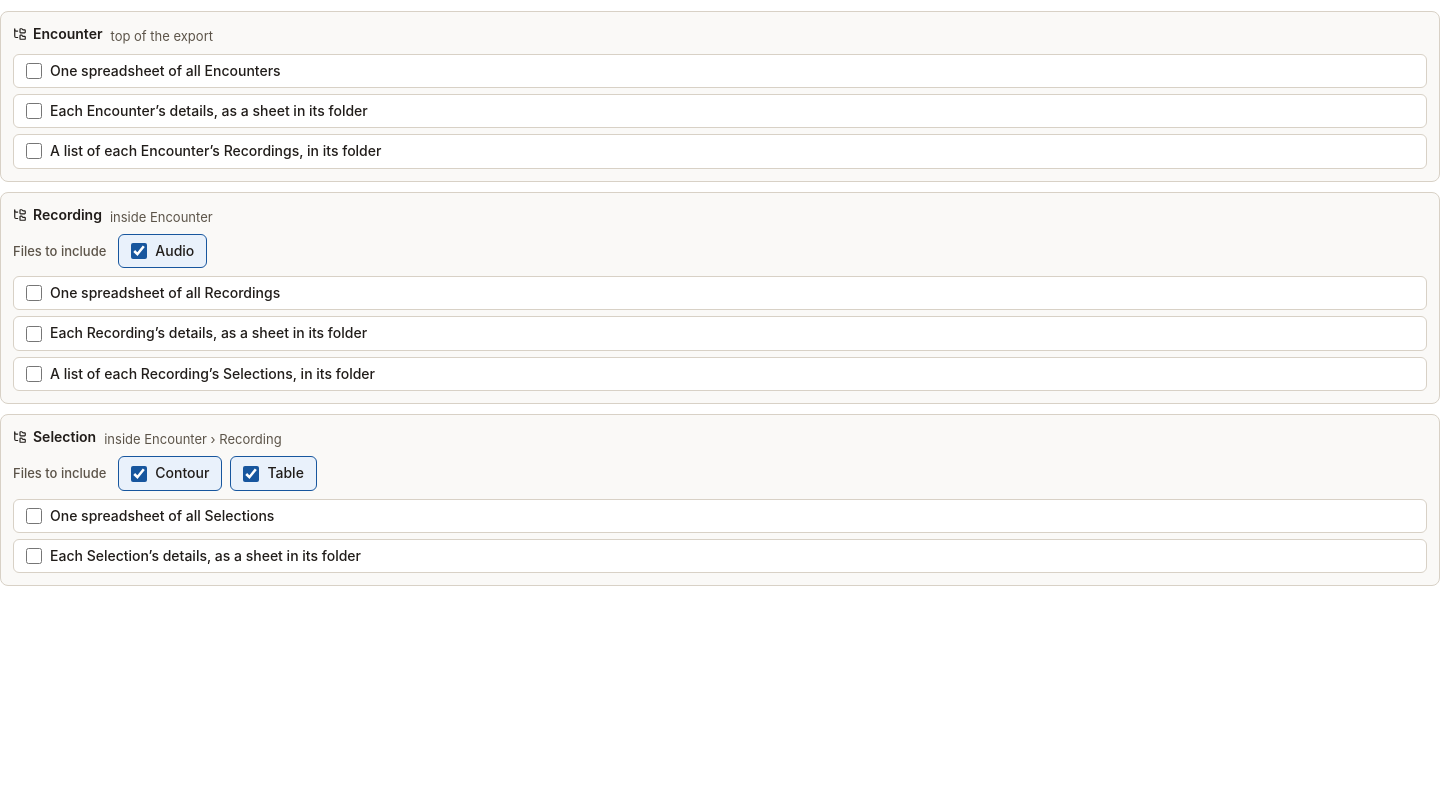
choosing columns, on the table’s own row › shows every column to begin with, and opens a panel to choose from
This screenshot has width=1440, height=793.
Click the checkbox labelled "One spreadsheet of all Selections". click: (34, 516)
box: [26,508,42,524]
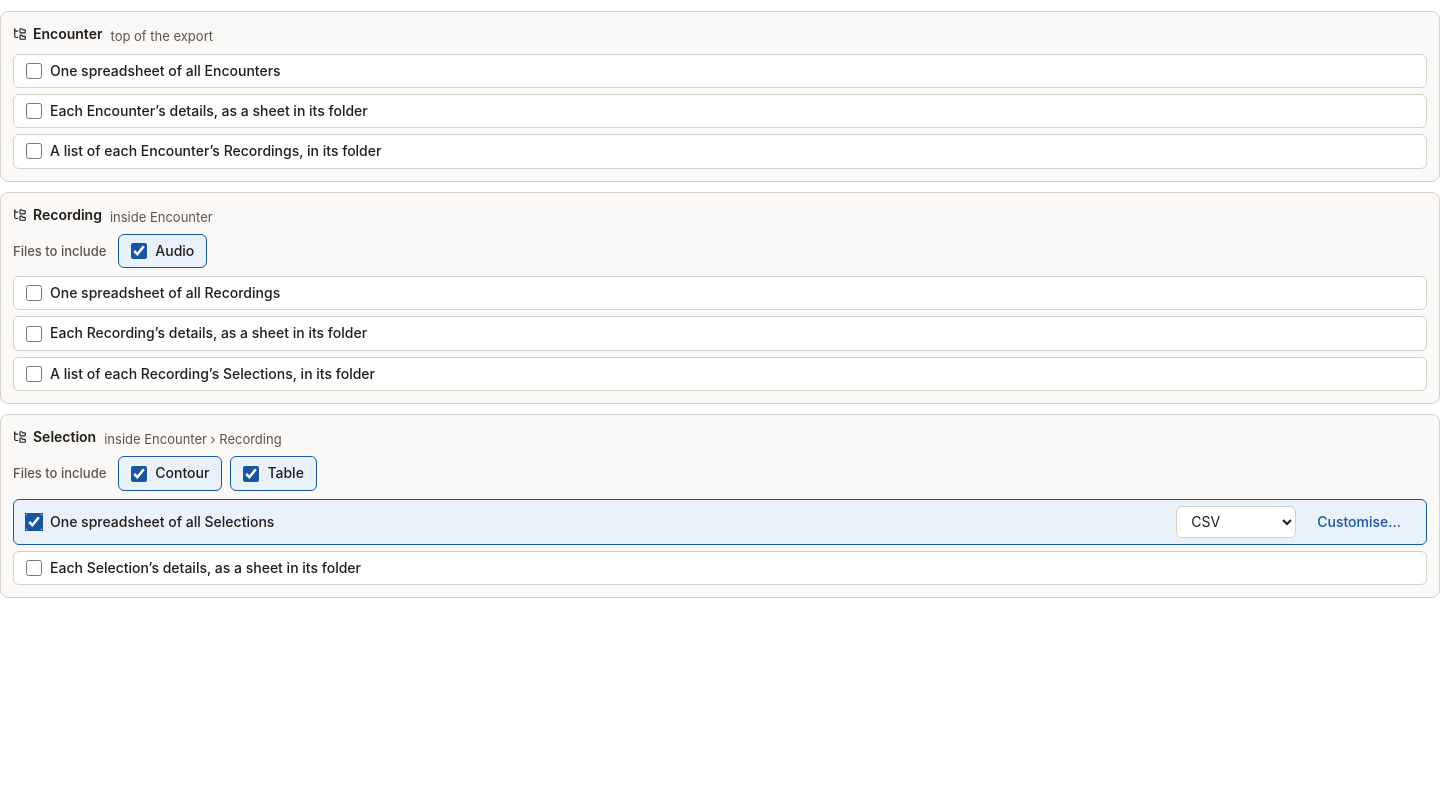
Click the button "Customise…". click: (1359, 522)
box: [1304,506,1414,538]
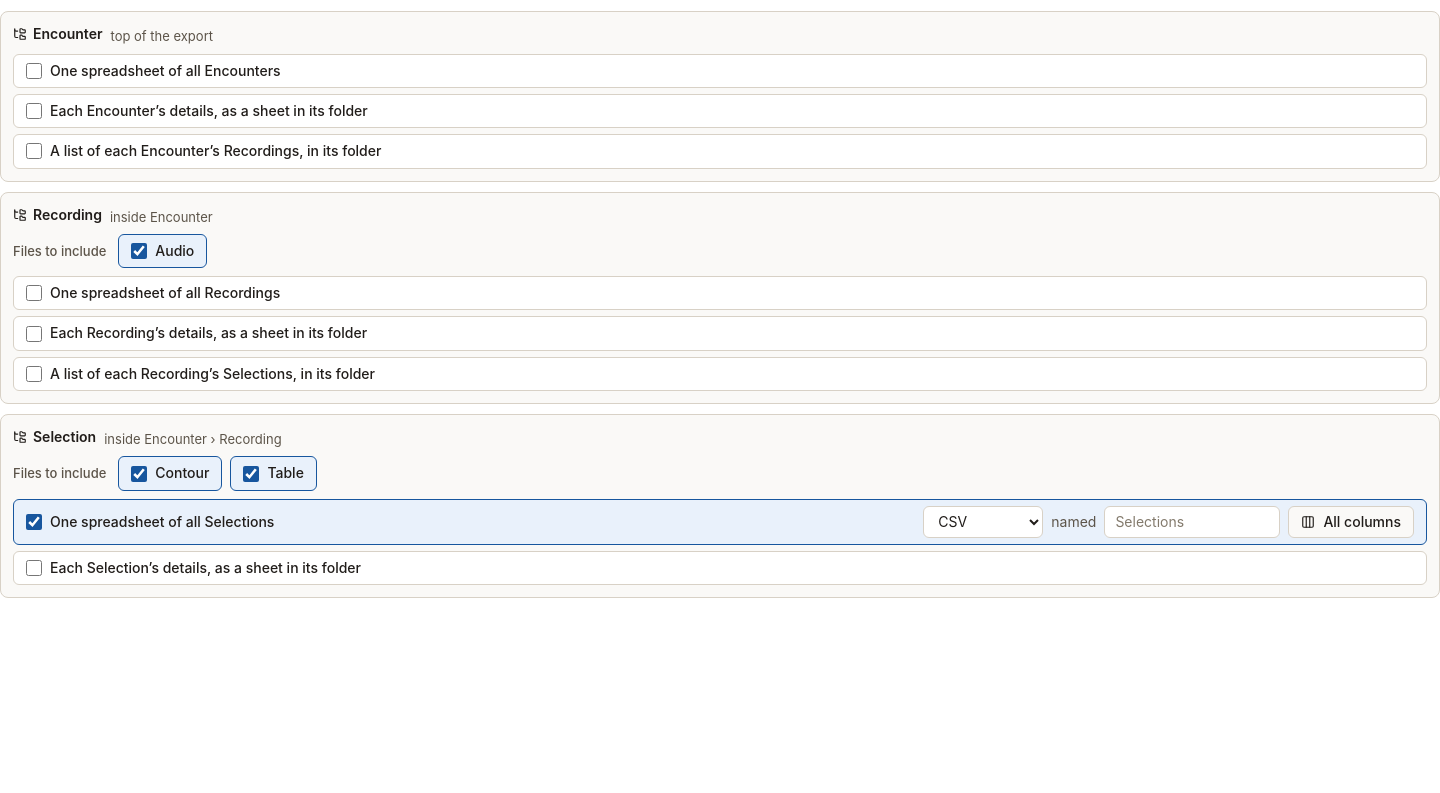
Click the button "All columns". click: (1351, 522)
box: [1288,506,1414,538]
(page scrolled)
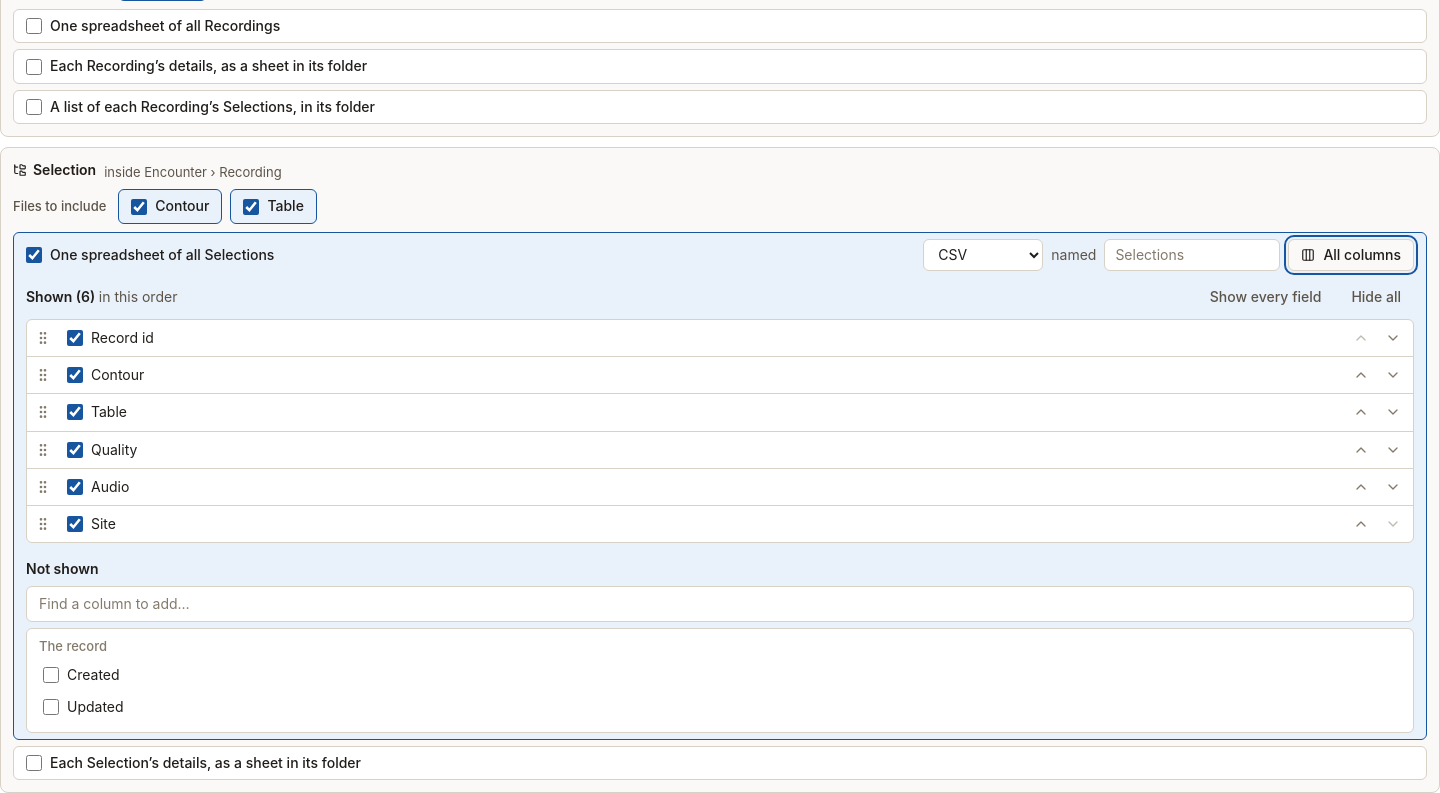
Expected: the heading "Shown (6) in this order" is shown, [26,286,177,307]
Expected: the heading "Not shown" is shown, [26,560,98,577]
